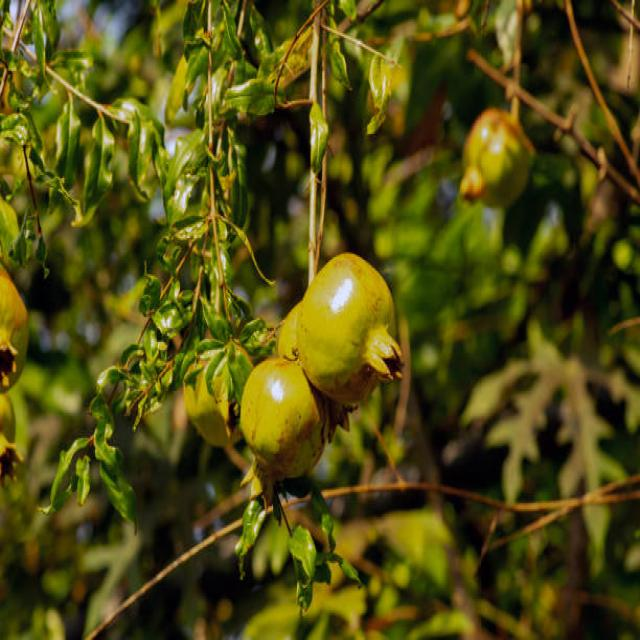Unripe: (294, 251, 408, 407), (239, 352, 327, 509)
